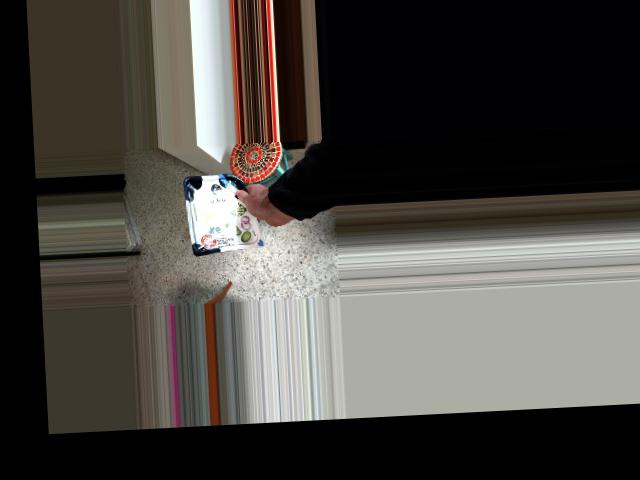cheese: (198, 169, 290, 253)
